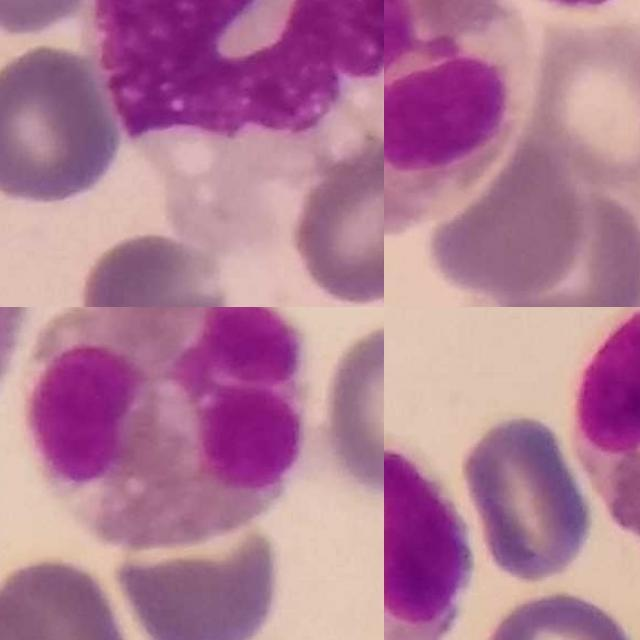Eosinophil: (27, 307, 308, 553), (384, 0, 525, 236), (384, 415, 470, 640), (569, 307, 640, 575)
Monocyte: (95, 0, 384, 138)
